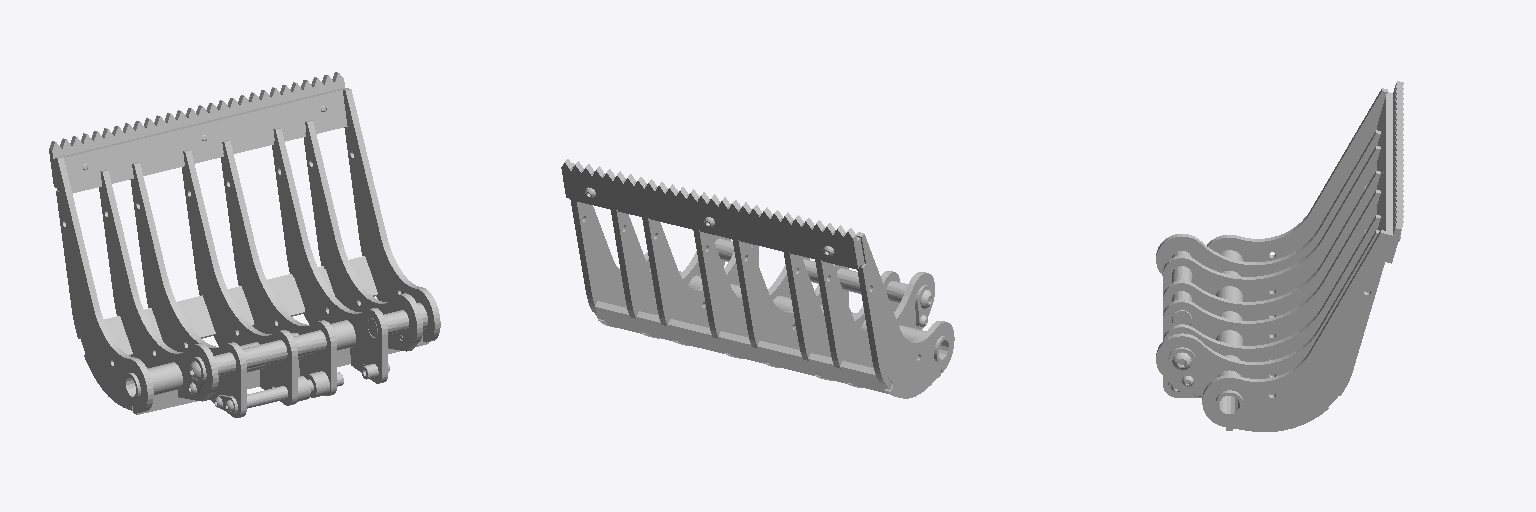
File: gripper_claw_1_Mesh.obj
3 views of the same model, side by side, from view 1: azimuth 30°, elevation 25°; view 2: azimuth 150°, elevation 25°; view 3: azimuth 270°, elevation 25° (orthographic).
Bounding box in the file's own units: 0.101 × 0.0679 × 0.0721.